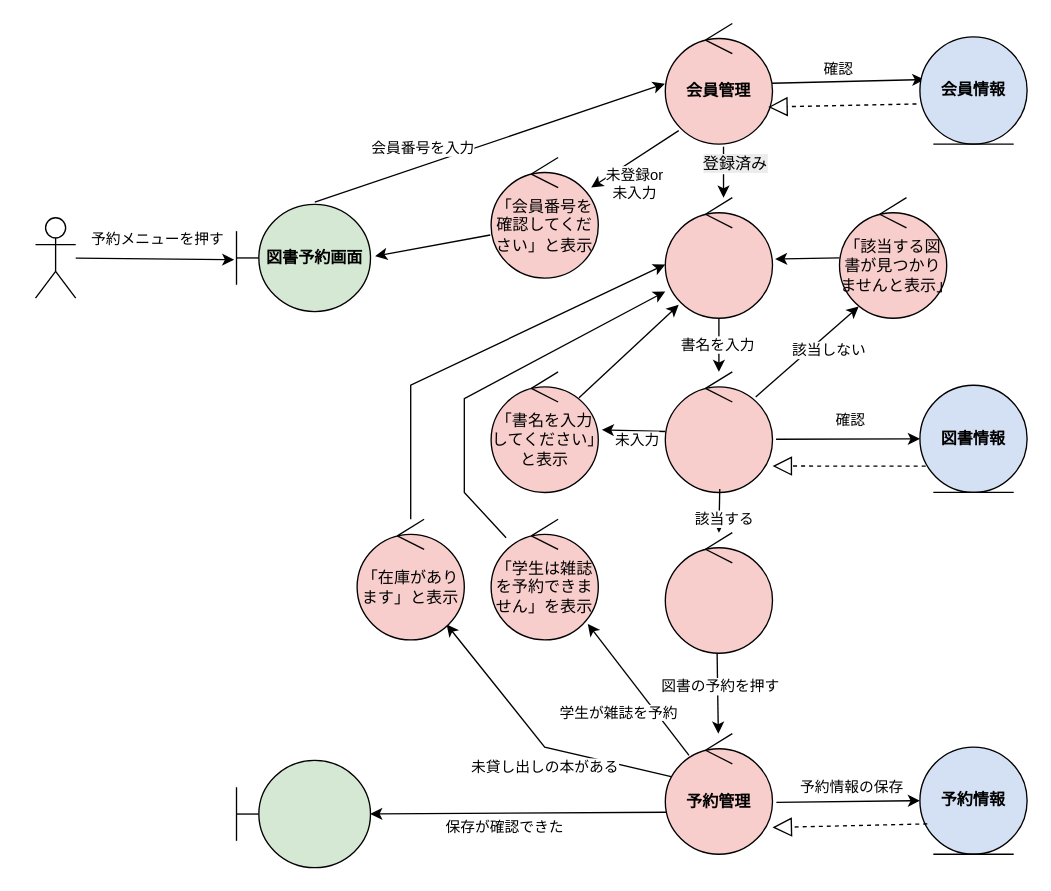
Some shapes in this 1051 by 891 pixel diagram are drawn without their labels. Each missing label, with the box of its shape:
予約完了画面: (235, 759, 371, 868)
事務職員: (34, 216, 76, 298)
会員の氏名 会員種別を 表示: (664, 196, 773, 318)
図書一覧 を表示: (664, 531, 773, 653)
書籍管理: (664, 371, 773, 492)
